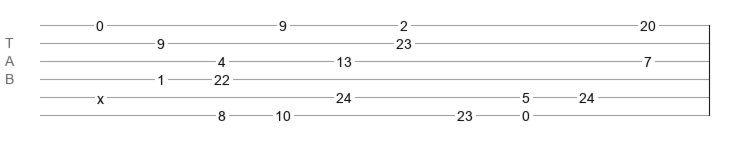0: (96, 18, 104, 28), (522, 108, 530, 118)
1: (157, 72, 165, 82)
10: (275, 108, 291, 118)
13: (336, 54, 352, 64)
2: (400, 18, 408, 28)
20: (640, 18, 656, 28)
22: (214, 72, 230, 82)
23: (396, 36, 412, 46), (457, 108, 473, 118)
24: (336, 90, 352, 100), (579, 90, 595, 100)
4: (218, 54, 226, 64)
5: (522, 90, 530, 100)
7: (644, 54, 652, 64)
8: (218, 108, 226, 118)
9: (157, 36, 165, 46), (279, 18, 287, 28)
x: (97, 91, 104, 99)
